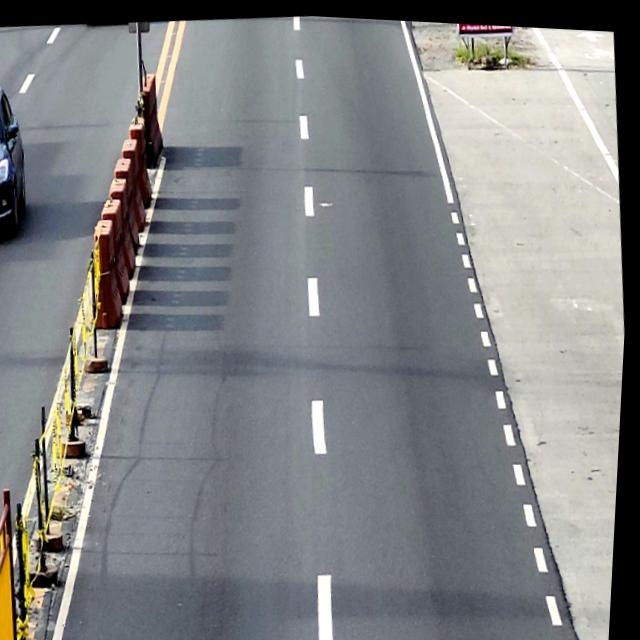Car: (0, 79, 36, 238)
